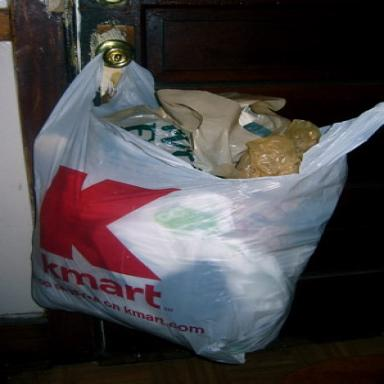plasticbag: (28, 42, 383, 364)
